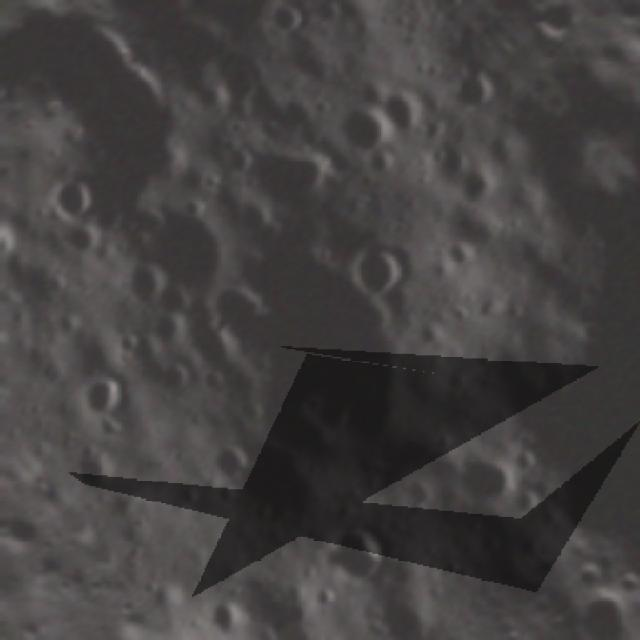crater: (118, 184, 254, 318), (227, 108, 348, 229), (328, 221, 421, 313), (310, 504, 401, 596), (441, 432, 527, 518), (313, 92, 395, 174), (50, 428, 128, 507), (32, 156, 108, 232), (102, 245, 170, 312), (439, 53, 506, 119), (189, 425, 257, 490), (369, 76, 433, 141), (67, 359, 131, 423), (197, 580, 258, 640), (442, 158, 500, 216), (254, 0, 314, 48), (0, 204, 34, 274), (302, 572, 342, 612), (424, 0, 470, 25)
